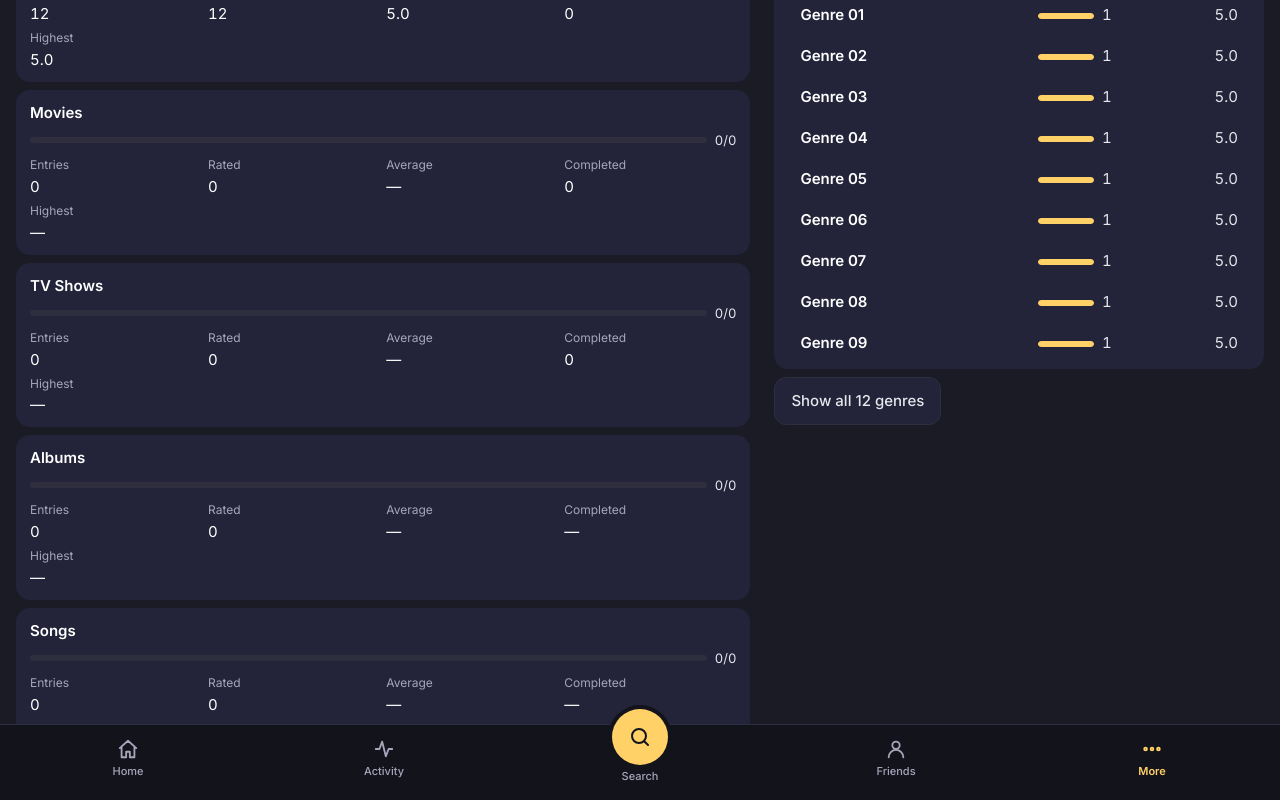
Test case: Stats screen › shows the top 10 genres, with a button to show all when there are more
The width and height of the screenshot is (1280, 800).
(page scrolled)
Click the button "Show all 12 genres" at x=858, y=401, box [774, 377, 941, 425]
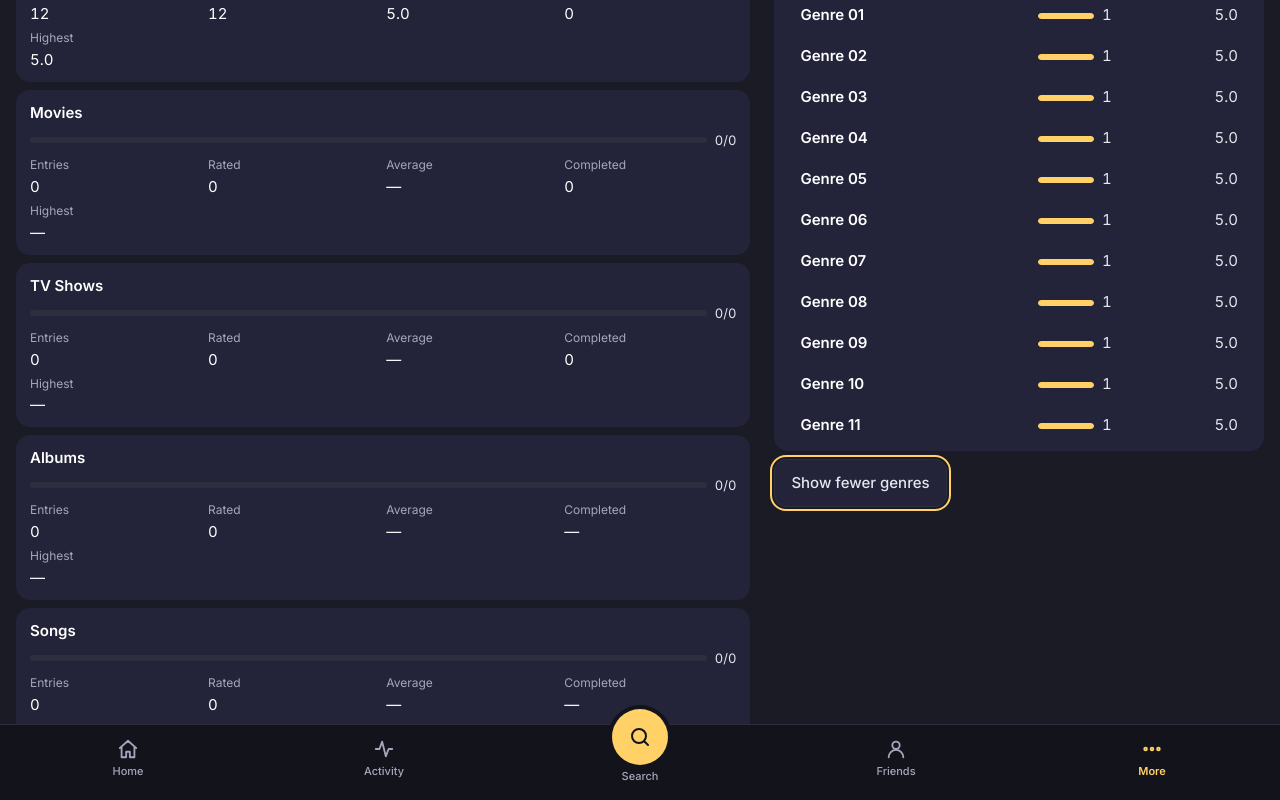
Now the button "Show fewer genres" is expanded, box [774, 459, 947, 507]
